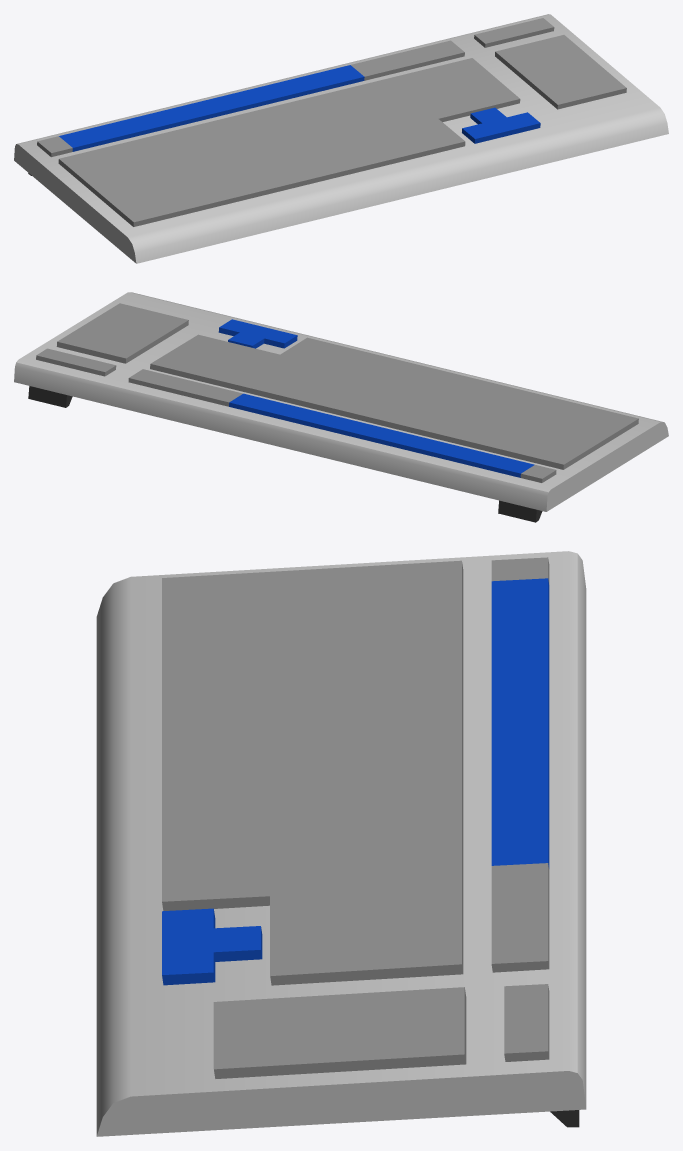
File: PC_Keyboard_3.obj
3 views of the same model, one above another, from view 1: azimuth 30°, elevation 25°; view 2: azimuth 150°, elevation 25°; view 3: azimuth 270°, elevation 25° (orthographic). The views are drawn at different scales.
Parts seen in each view (by area): view 1: PC_Keyboard_3; view 2: PC_Keyboard_3; view 3: PC_Keyboard_3.
Part boxes in pixels (x1=…): PC_Keyboard_3: x1=14, y1=14, x2=668, y2=263; PC_Keyboard_3: x1=14, y1=292, x2=668, y2=522; PC_Keyboard_3: x1=96, y1=551, x2=586, y2=1136.
Bounding box in the file's own units: 0.4489 × 0.0305 × 0.1788.
